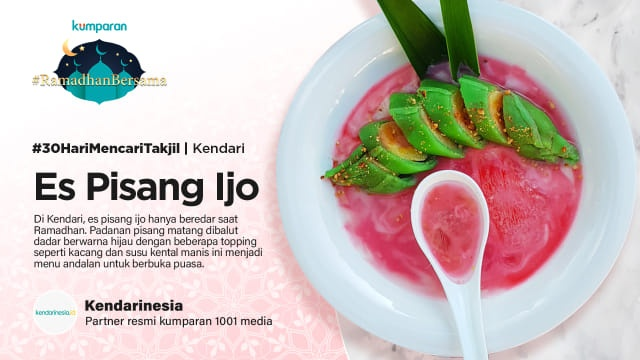es_pisang_ijo: (334, 58, 582, 293)
